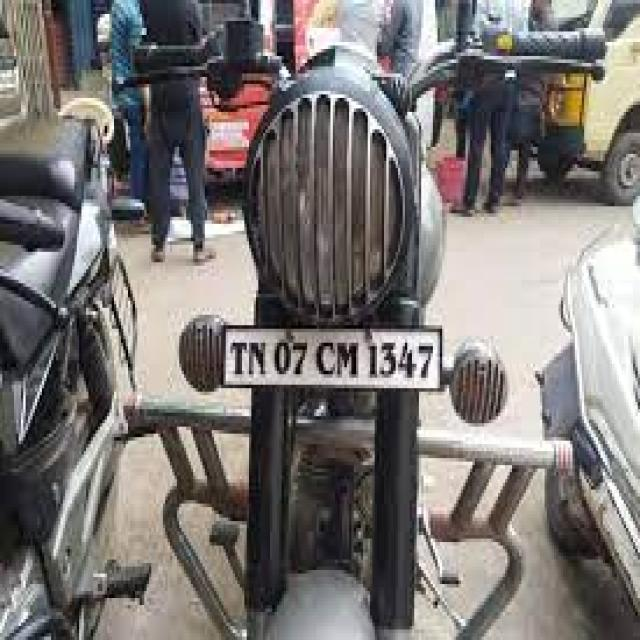license_plate: (219, 318, 442, 392)
